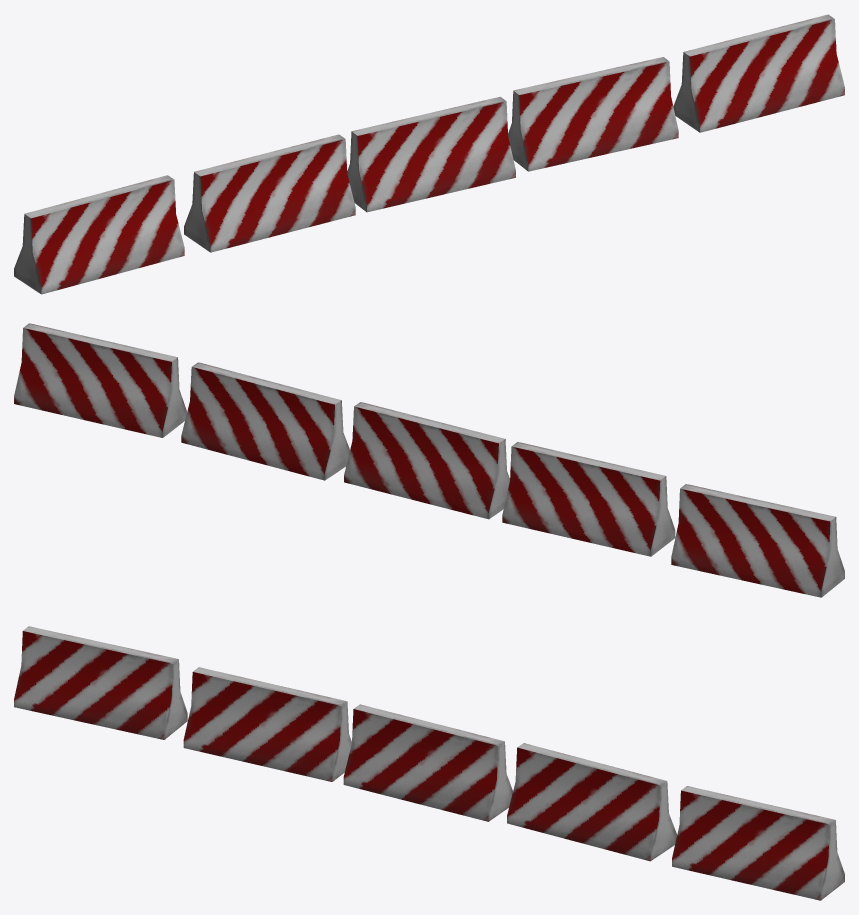
Rendered from Barrier_x5.fbx.
3 views of the same model, one above another, from view 1: azimuth 30°, elevation 25°; view 2: azimuth 150°, elevation 25°; view 3: azimuth 330°, elevation 25° (orthographic).
Visible parts, largest first — view 1: Barrier_x5; view 2: Barrier_x5; view 3: Barrier_x5.
Part boxes in pixels (box(x1,y1,x2,y2)): Barrier_x5: box(14, 14, 844, 294); Barrier_x5: box(14, 323, 844, 597); Barrier_x5: box(14, 626, 844, 900).
Bounding box in the file's own units: 1098 × 90 × 69.78.
